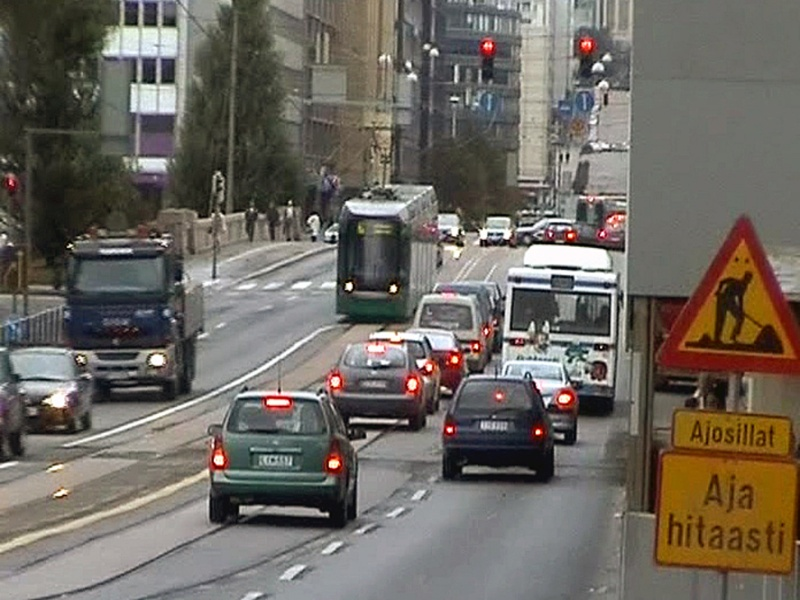red_light: (470, 29, 516, 70), (574, 31, 606, 66)
